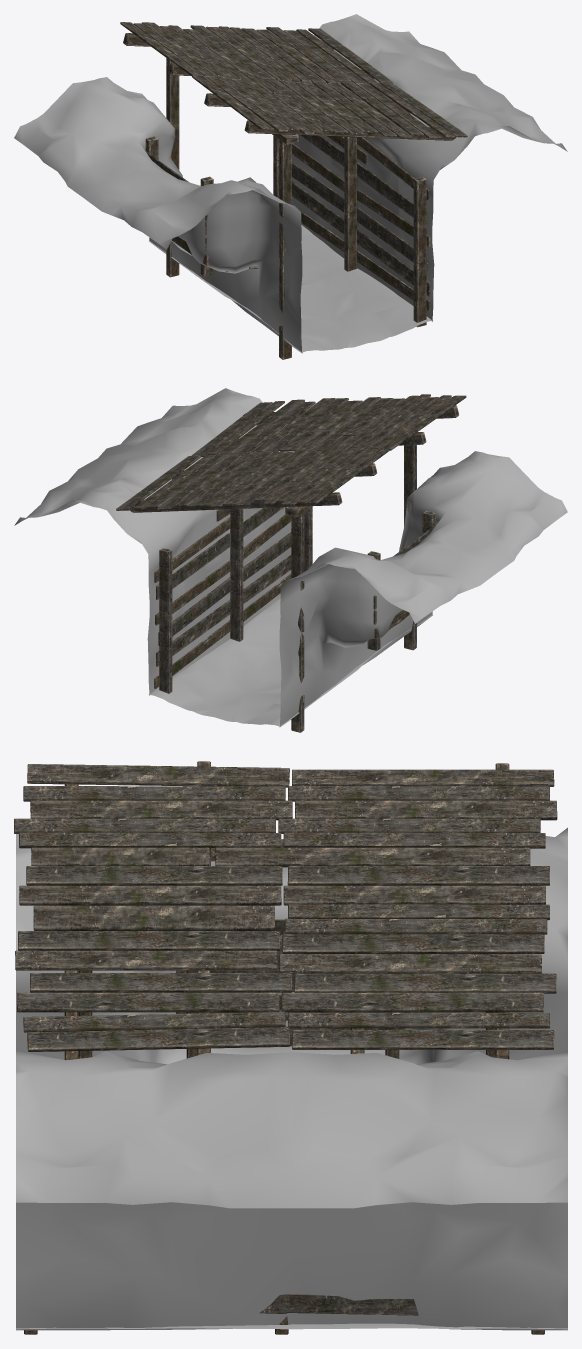
The model's file is Ground_Firebay_Wood.fbx.
The picture shows the model from 3 angles, top to bottom: view 1: azimuth 30°, elevation 25°; view 2: azimuth 150°, elevation 25°; view 3: azimuth 270°, elevation 25°; orthographic projection. The views are drawn at different scales.
Parts seen in each view (by area): view 1: Ground_Firebay_Wood_LOD0; view 2: Ground_Firebay_Wood_LOD0; view 3: Ground_Firebay_Wood_LOD0.
Boxes of the visible parts, x1=… form: Ground_Firebay_Wood_LOD0: x1=14, y1=14, x2=567, y2=359; Ground_Firebay_Wood_LOD0: x1=14, y1=388, x2=567, y2=732; Ground_Firebay_Wood_LOD0: x1=14, y1=761, x2=567, y2=1334.
Size of what is drawn, in the model's own units: 627 by 362 by 401.
